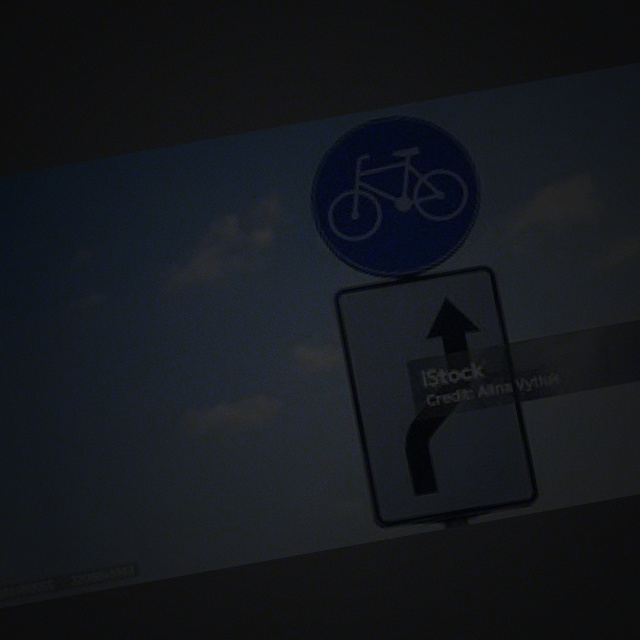Compulsory_Cycle_Track: (298, 104, 496, 287)
